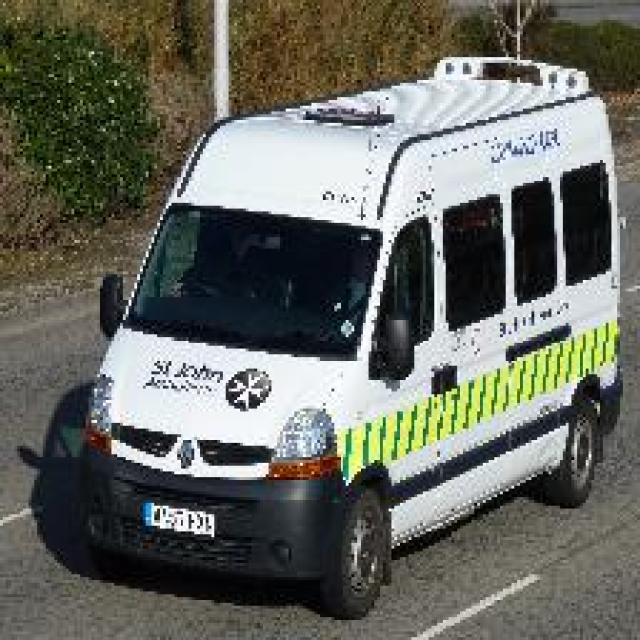Ambulance: (74, 52, 623, 617)
